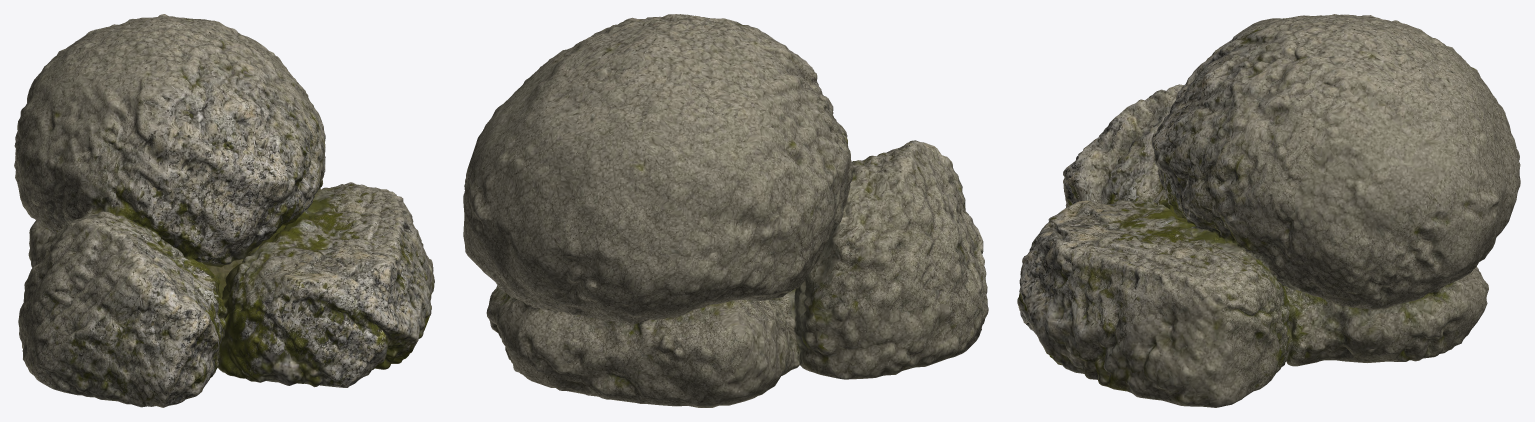
The model's file is 07_rock.glb.
The picture shows the model from 3 angles, left to right: view 1: azimuth 30°, elevation 25°; view 2: azimuth 150°, elevation 25°; view 3: azimuth 270°, elevation 25°; orthographic projection. The views are drawn at different scales.
Visible parts, largest first — view 1: meshy_07_rock; view 2: meshy_07_rock; view 3: meshy_07_rock.
Boxes of the visible parts, x1,y1,x2,y2 form: meshy_07_rock: [14, 14, 434, 407]; meshy_07_rock: [463, 14, 988, 407]; meshy_07_rock: [1017, 14, 1520, 407].
Size of the model in its own units: 1.54 by 1 by 1.59.
Materials: 1 (1 with a texture image).
